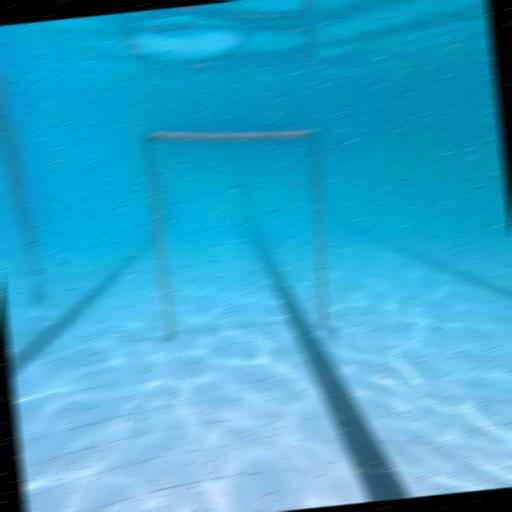gate: (141, 114, 340, 354)
